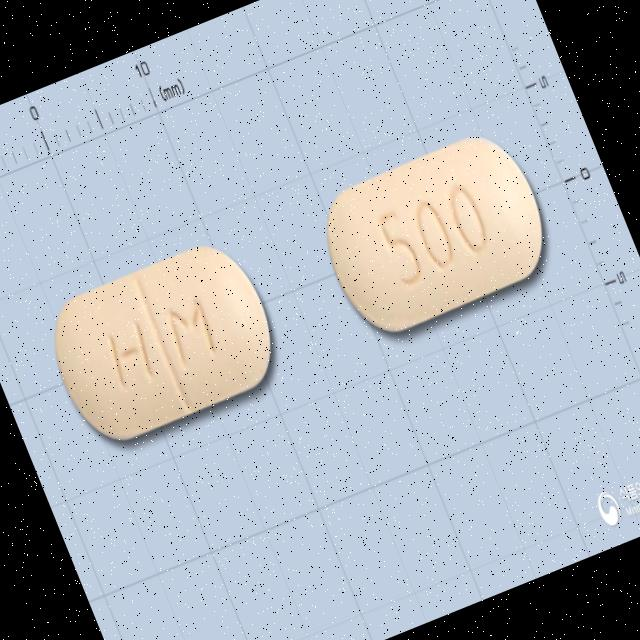Clamicin: (35, 230, 292, 456), (307, 123, 563, 344)
